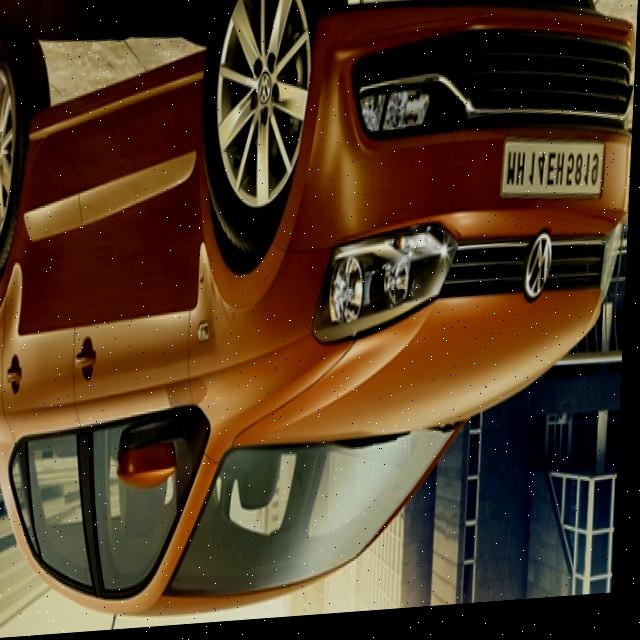plate: (505, 142, 607, 212)
